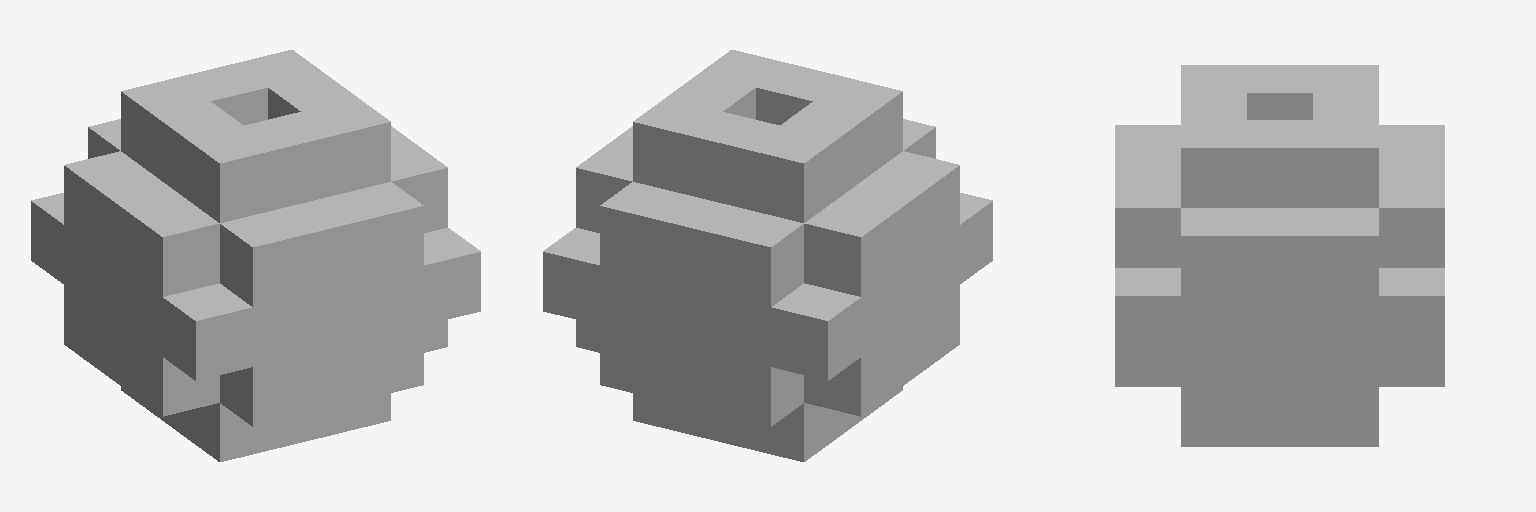
Rendered from Pot.obj.
3 views of the same model, side by side, from view 1: azimuth 30°, elevation 25°; view 2: azimuth 150°, elevation 25°; view 3: azimuth 270°, elevation 25° (orthographic).
Parts seen in each view (by area): view 1: object 1; view 2: object 1; view 3: object 1.
Boxes of the visible parts, box(x1,y1,x2,y2) form: object 1: box(31, 50, 480, 461); object 1: box(543, 50, 992, 461); object 1: box(1115, 65, 1444, 446).
Size of the model in its own units: 0.5 by 0.5 by 0.5.